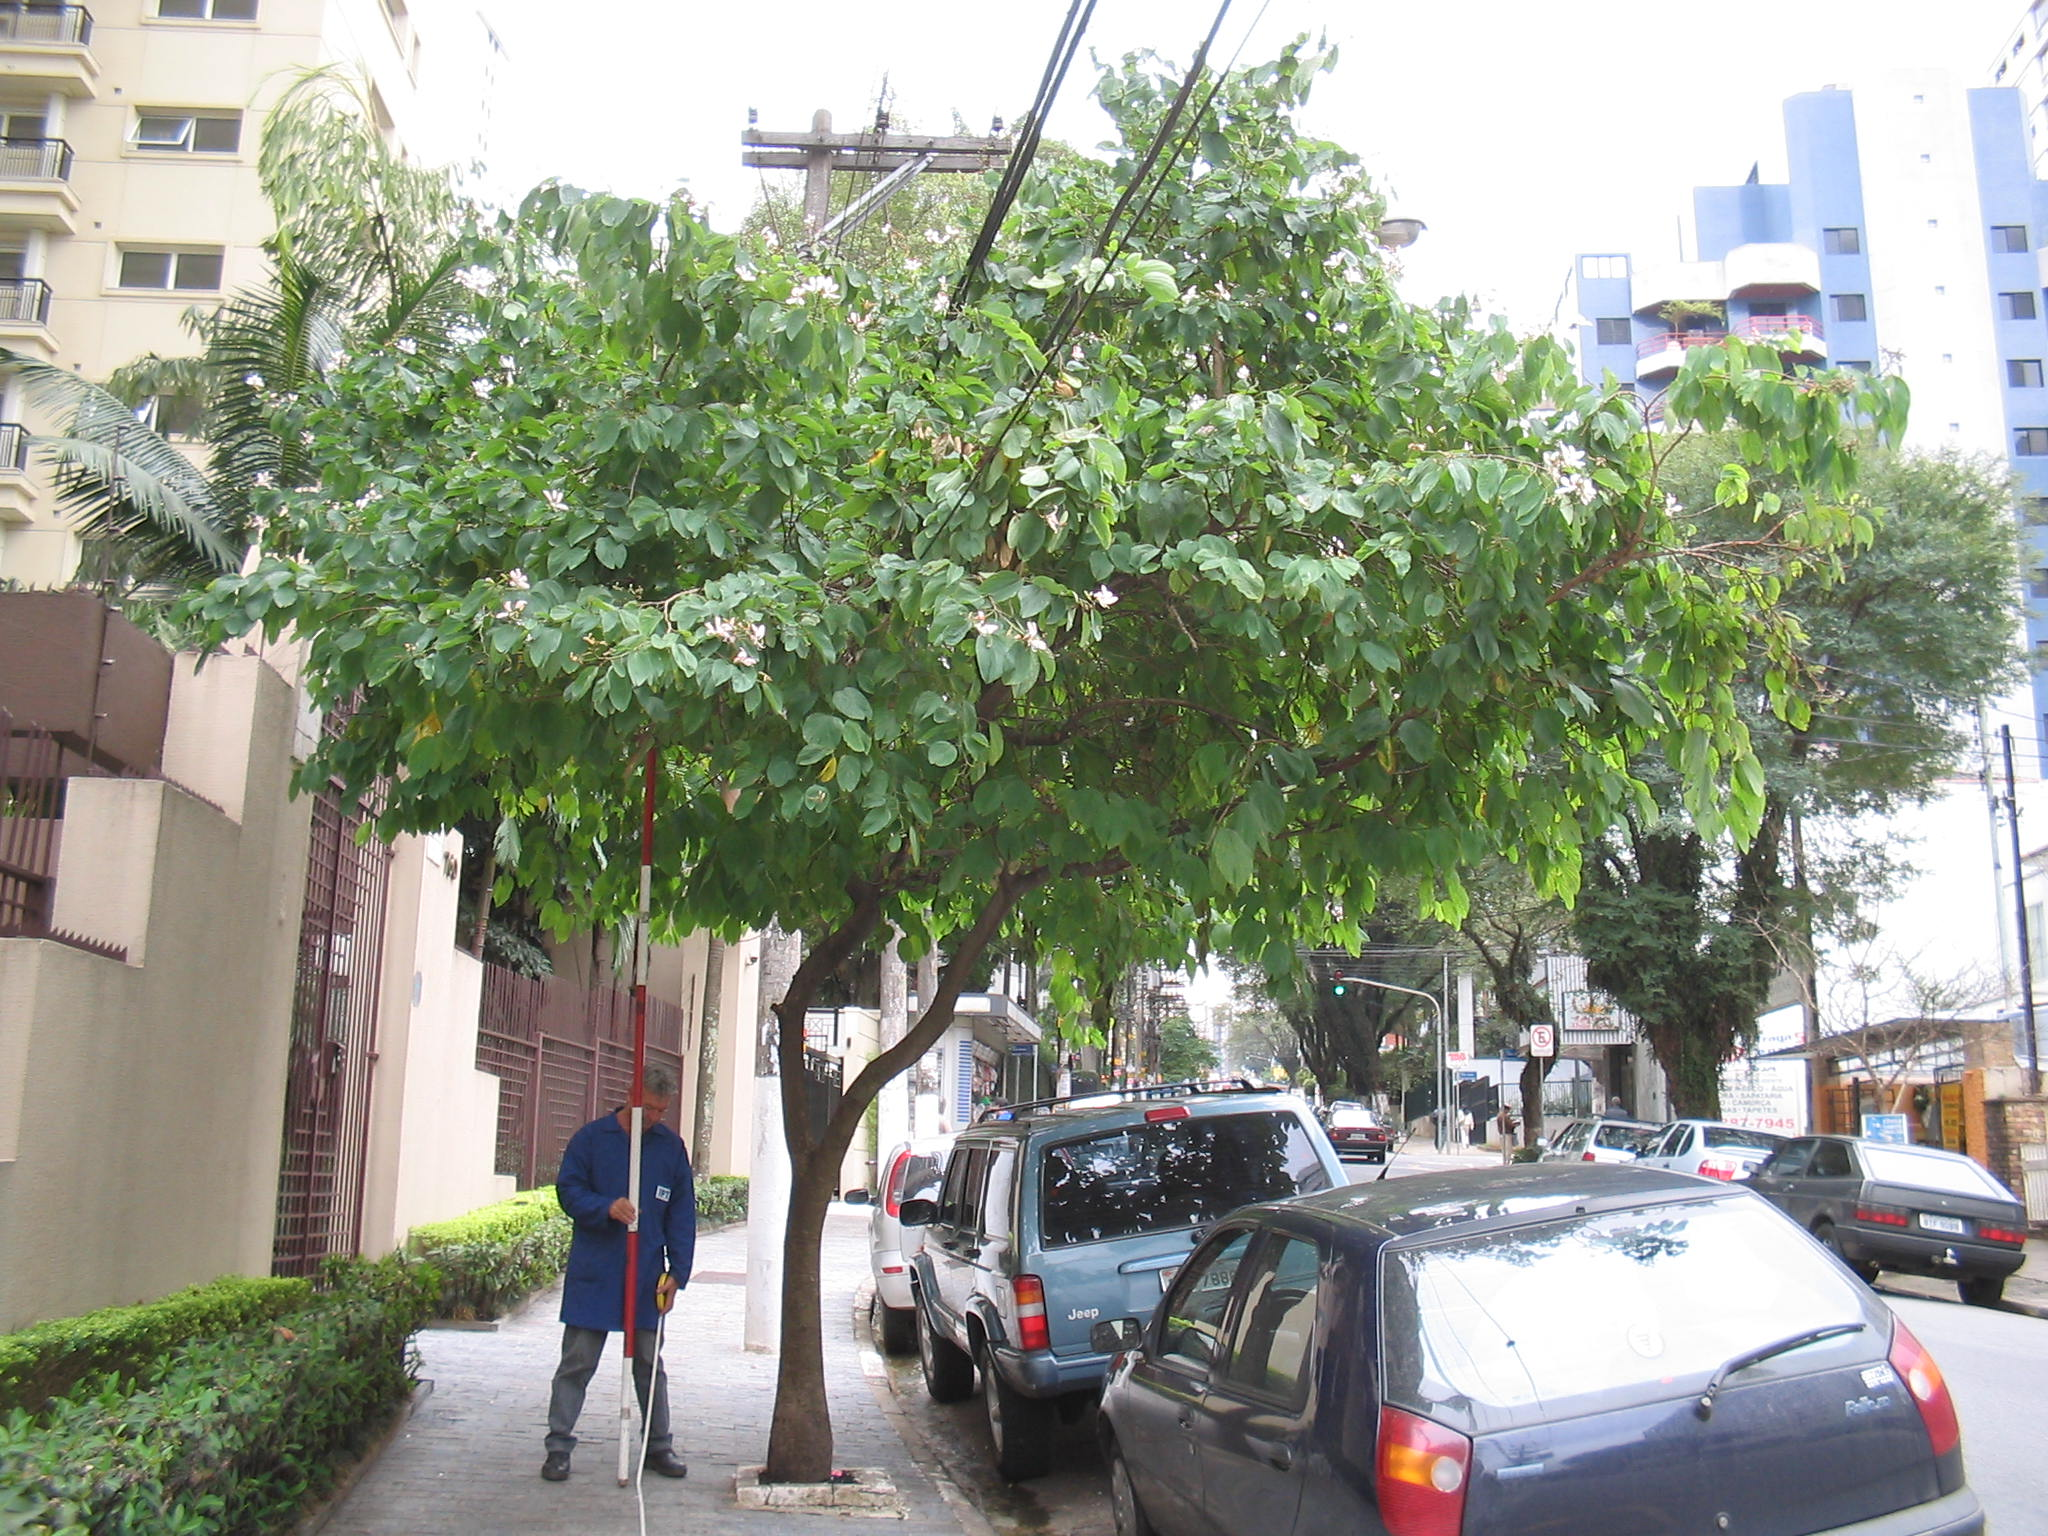crown: (132, 34, 1909, 975)
stem: (748, 1162, 858, 1481)
stick: (610, 724, 666, 1483)
tree: (127, 27, 1913, 1489)
